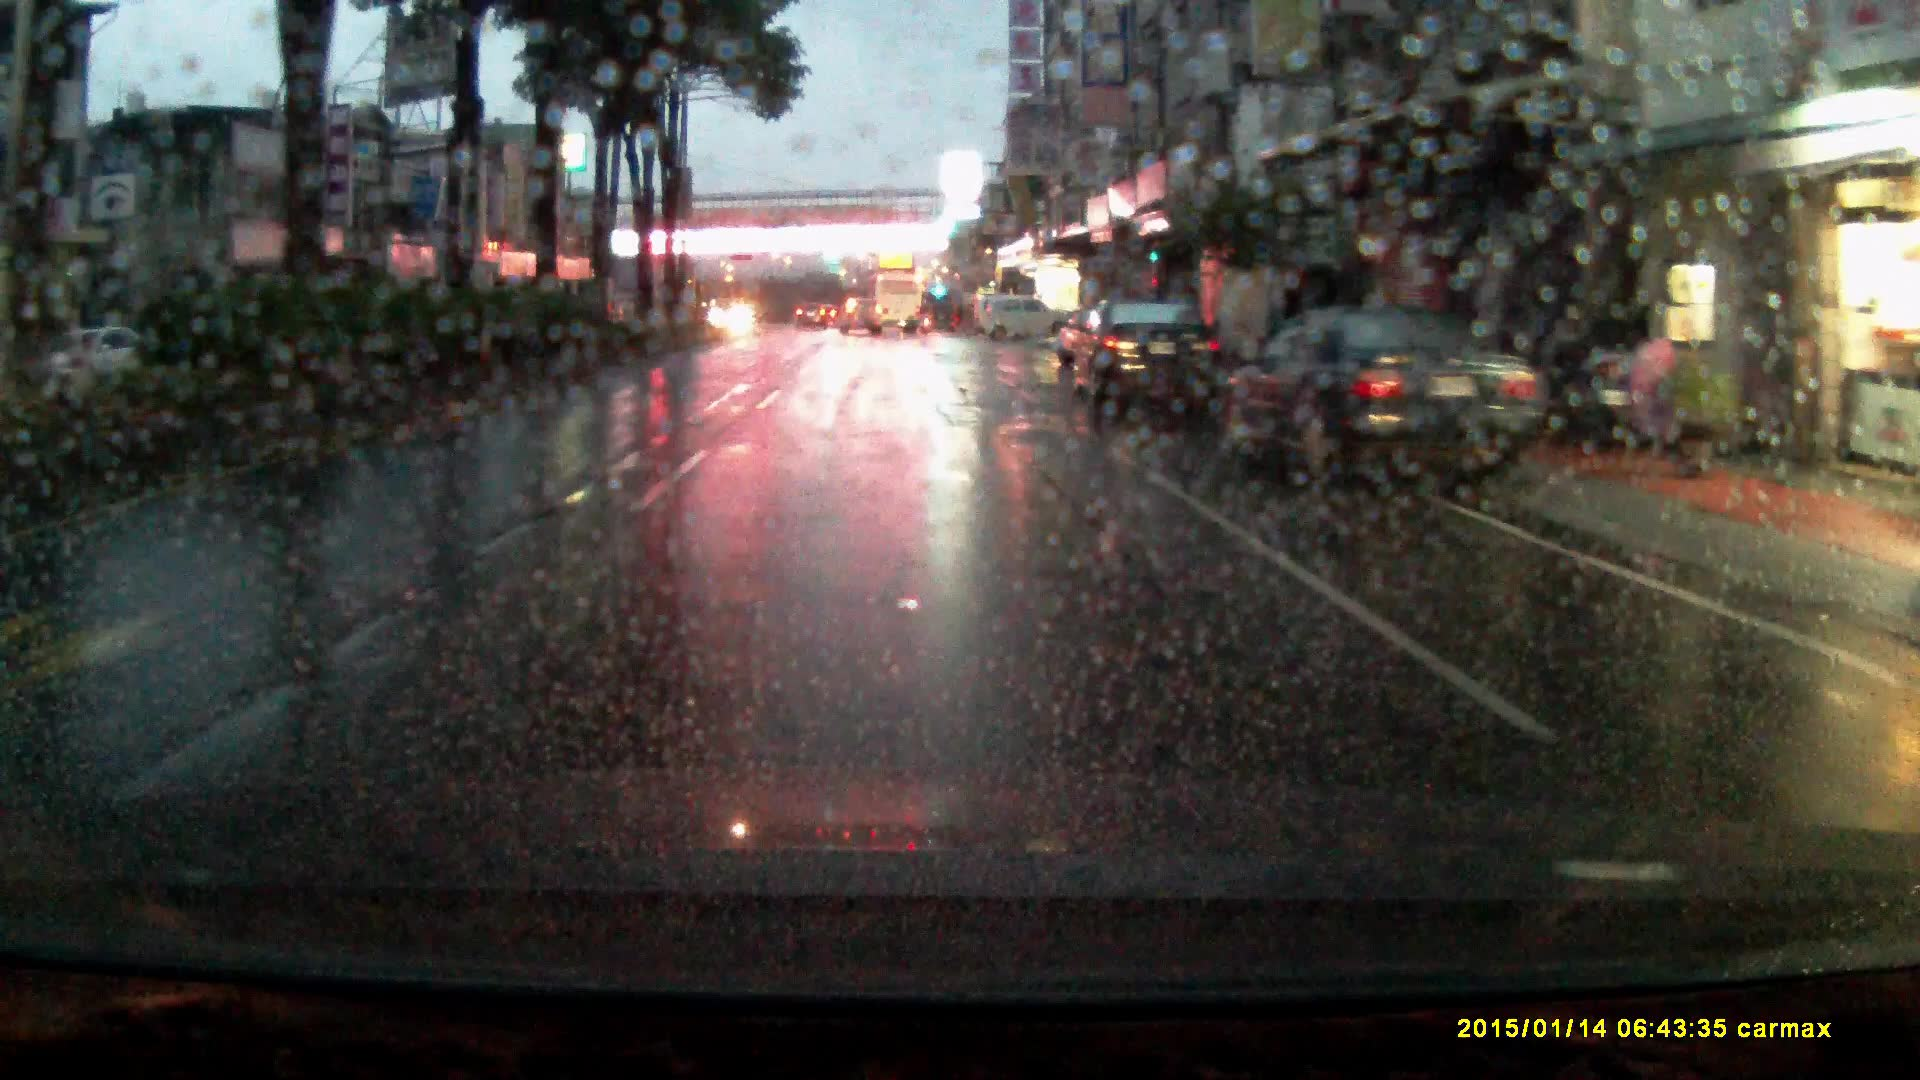vehicle: (1209, 305, 1560, 491), (1069, 290, 1229, 418), (20, 326, 146, 386), (982, 293, 1069, 345), (862, 270, 924, 335), (837, 295, 887, 338), (796, 299, 829, 330)
